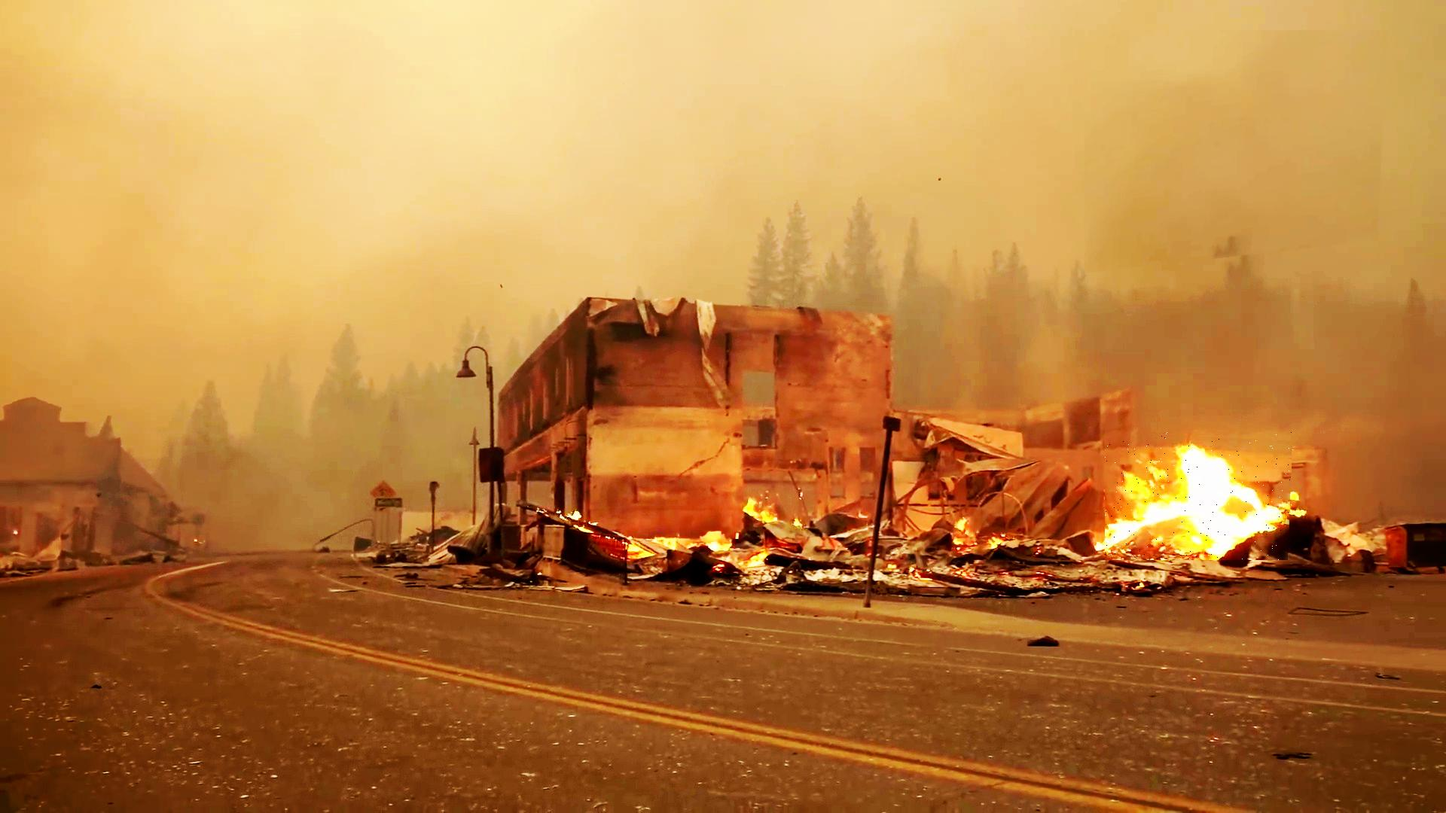fire: (1106, 431, 1295, 560)
smoke: (1085, 30, 1392, 275)
